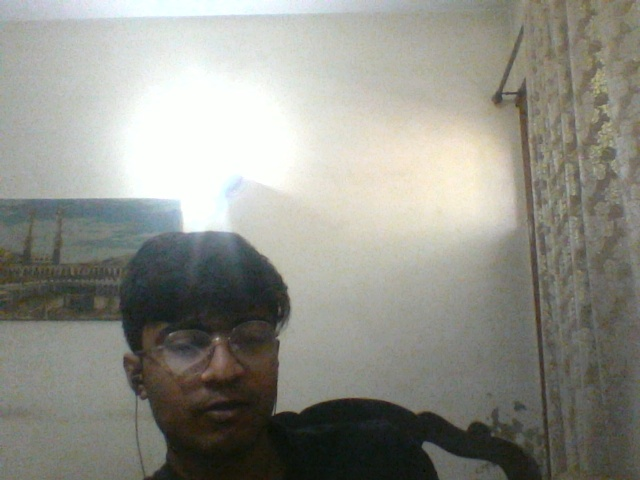neutral: (142, 319, 273, 451)
